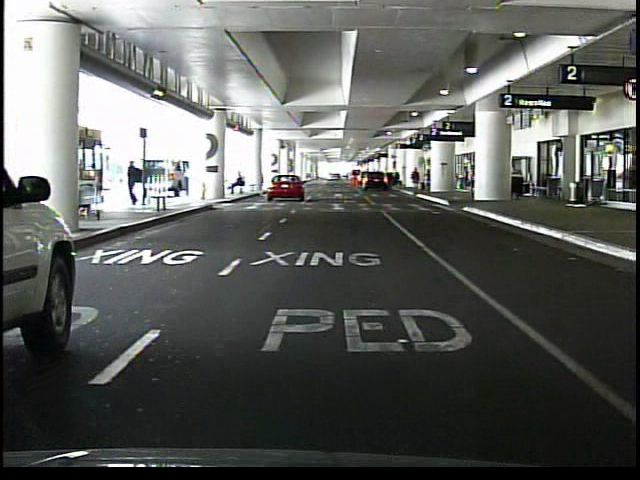person: (128, 161, 144, 207), (229, 171, 247, 195), (411, 165, 422, 193), (469, 162, 477, 200)
